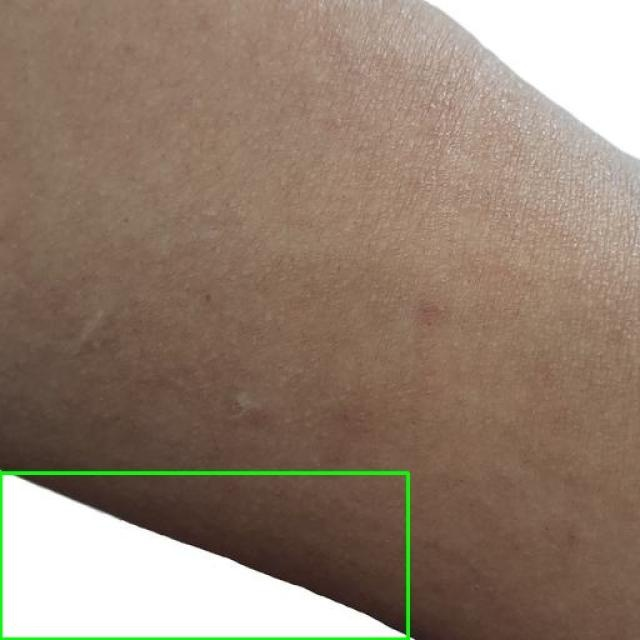Tinea Corporis: (0, 472, 408, 639)
